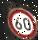Speed Limit -60-: (4, 3, 38, 39)
